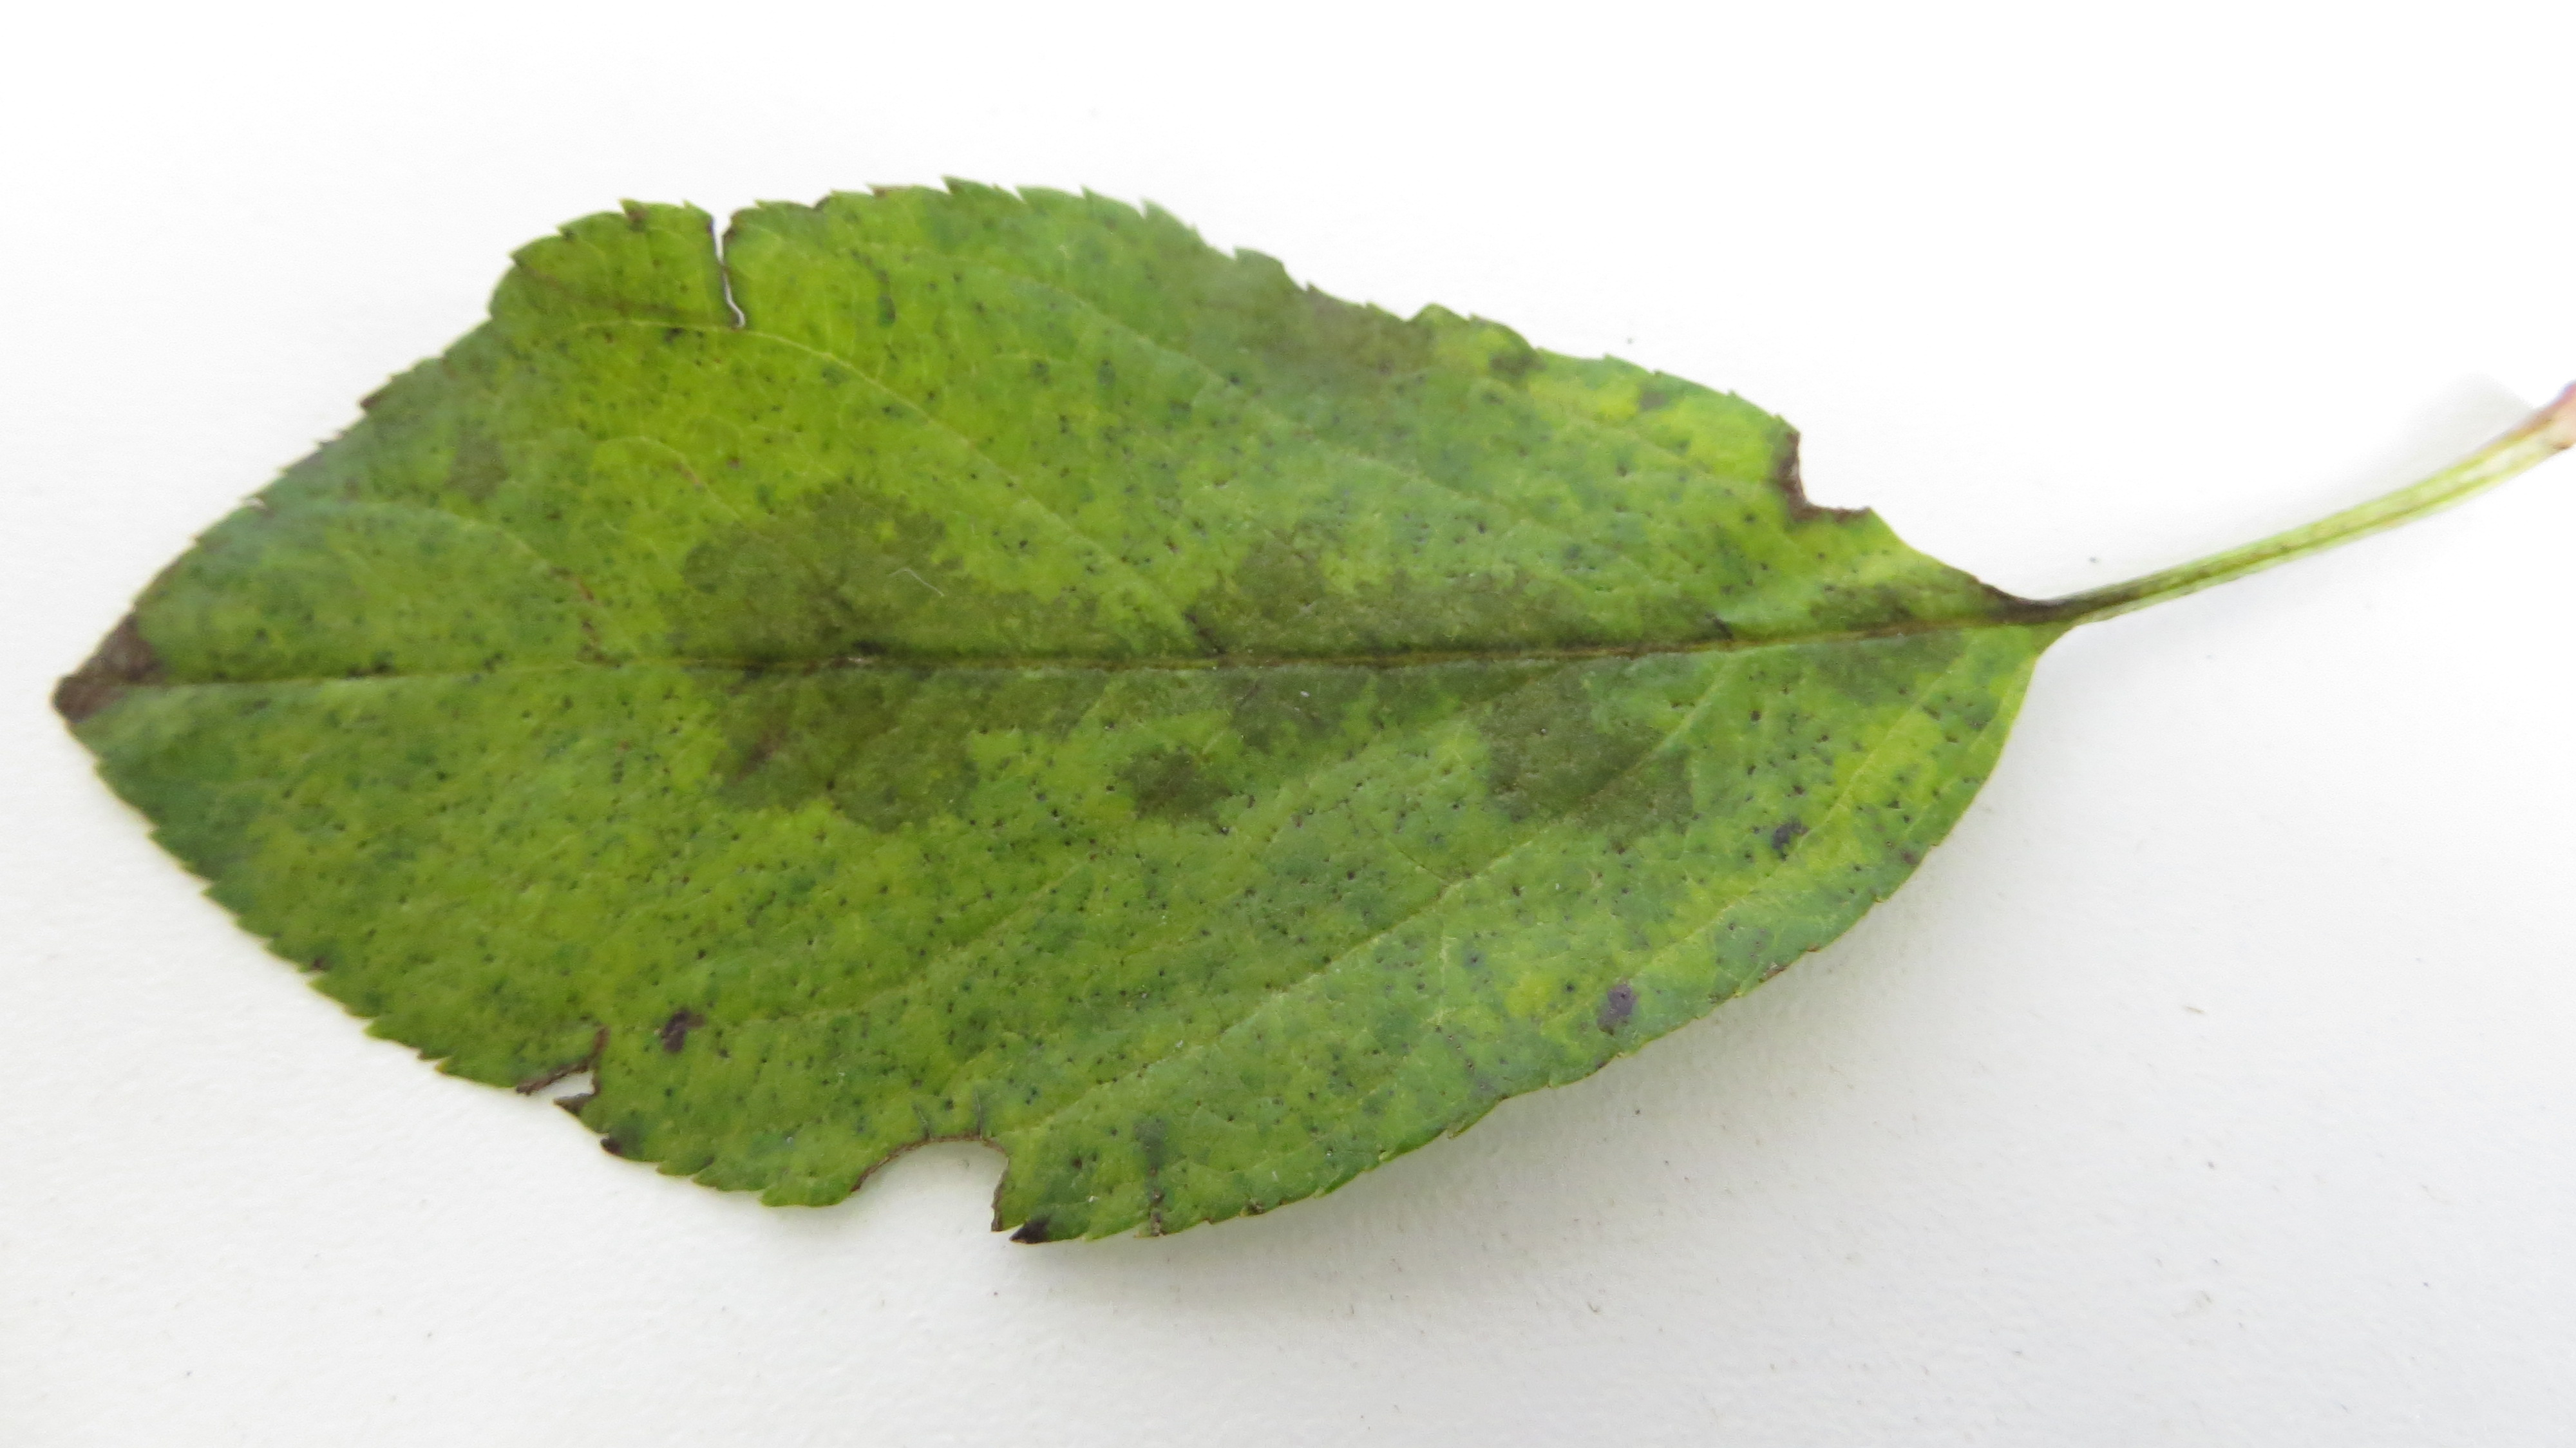sarna: (671, 469, 1067, 828), (1458, 561, 1706, 853), (1210, 506, 1463, 788), (1051, 586, 1214, 731), (41, 598, 184, 729), (1115, 722, 1242, 837)
